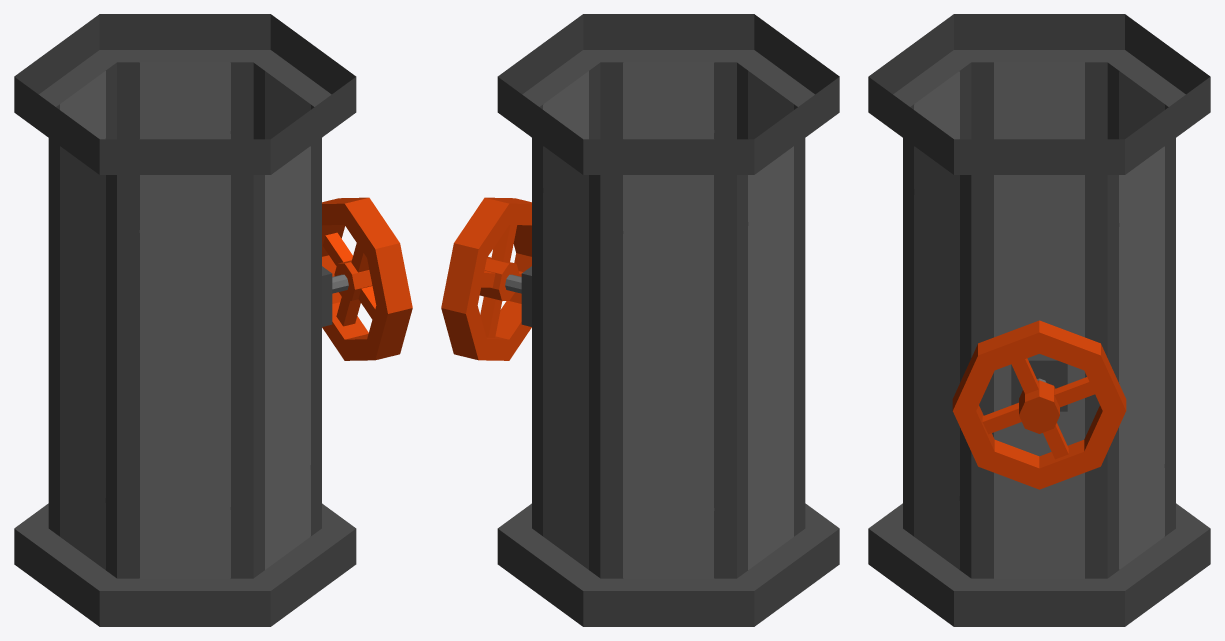
The model's file is Main_Valve.fbx.
3 views of the same model, side by side, from view 1: azimuth 30°, elevation 25°; view 2: azimuth 150°, elevation 25°; view 3: azimuth 270°, elevation 25° (orthographic).
Parts seen in each view (by area): view 1: Straight_Pipe; view 2: Straight_Pipe; view 3: Straight_Pipe.
Part boxes in pixels (left/top/right/bottom): Straight_Pipe: left=14, top=14, right=412, bottom=626; Straight_Pipe: left=441, top=14, right=839, bottom=626; Straight_Pipe: left=868, top=14, right=1210, bottom=626.
Bounding box in the file's own units: 98.17 × 142 × 90.53.
